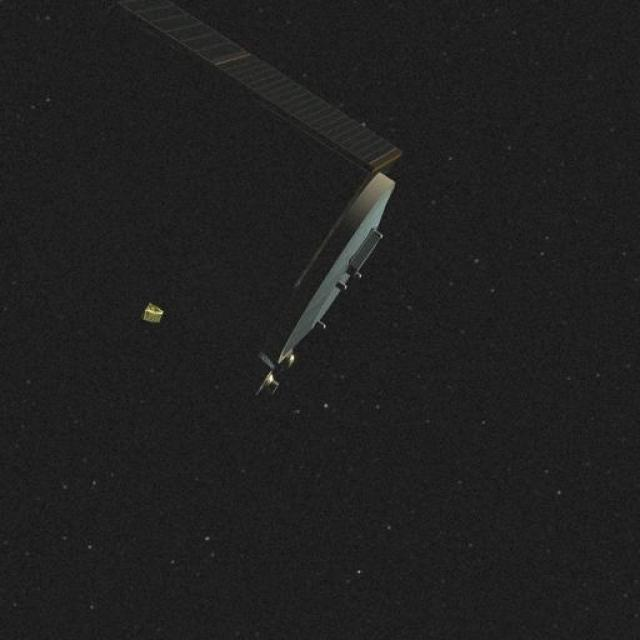cheops: (58, 64, 410, 394)
